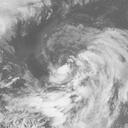cyclone: (45, 25, 117, 99)
